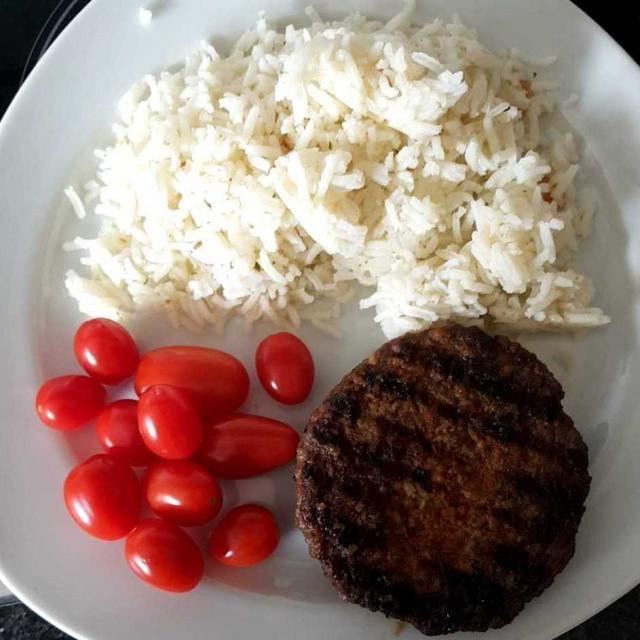hamburger: (300, 325, 588, 627)
rice: (78, 18, 598, 329)
tomato: (46, 323, 290, 586)
